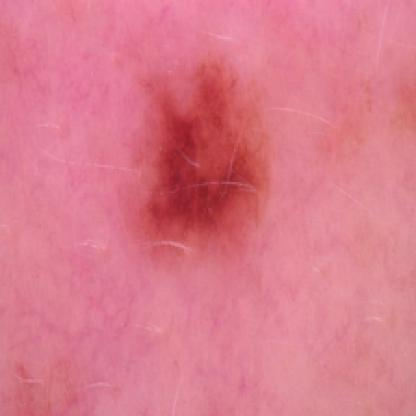benign: (140, 63, 280, 258)
